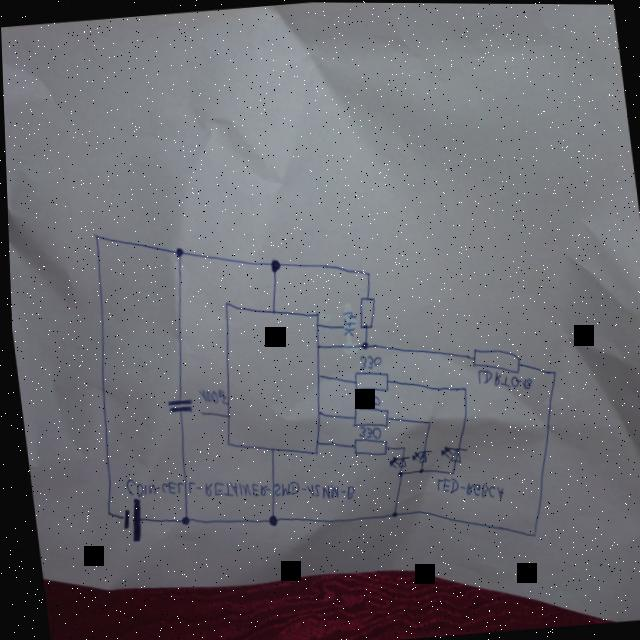capacitor: (163, 396, 192, 417)
diode: (434, 443, 466, 465), (406, 448, 431, 464), (384, 453, 407, 470)
junction: (265, 257, 280, 275), (261, 512, 275, 529), (175, 513, 187, 529), (171, 247, 183, 260), (357, 339, 368, 352), (90, 231, 99, 243), (385, 510, 394, 519), (458, 384, 466, 394), (526, 530, 533, 540), (392, 472, 400, 480), (101, 510, 108, 519), (361, 271, 369, 278), (547, 368, 554, 376), (396, 445, 404, 452), (414, 468, 421, 475), (421, 420, 428, 427), (446, 471, 452, 477)
resistor: (467, 343, 519, 378), (346, 403, 387, 432), (350, 368, 386, 395), (347, 435, 386, 459), (353, 295, 375, 332)
source: (114, 497, 142, 545)
text: (119, 457, 353, 520), (430, 474, 499, 504), (473, 364, 530, 396), (194, 386, 224, 408), (337, 310, 354, 338), (354, 424, 379, 443), (354, 392, 379, 410), (355, 354, 380, 371)
